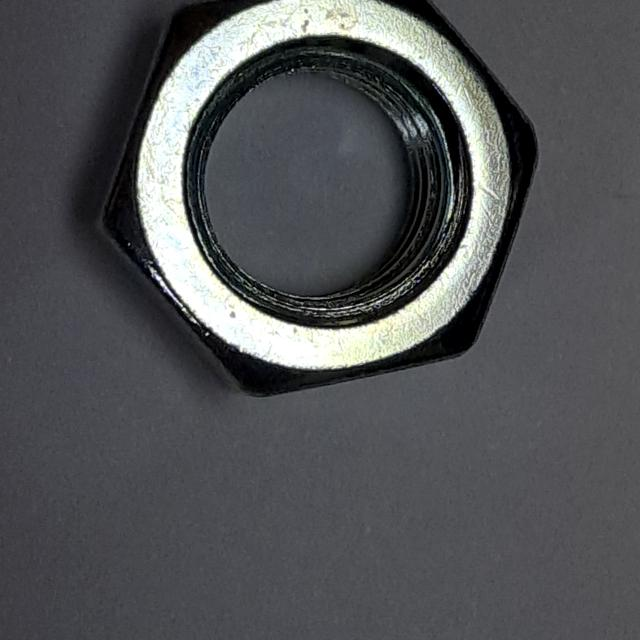Excellent: (70, 1, 558, 418)
